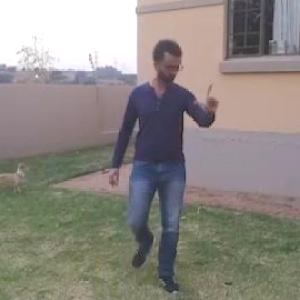land_hand: (192, 74, 228, 114)
